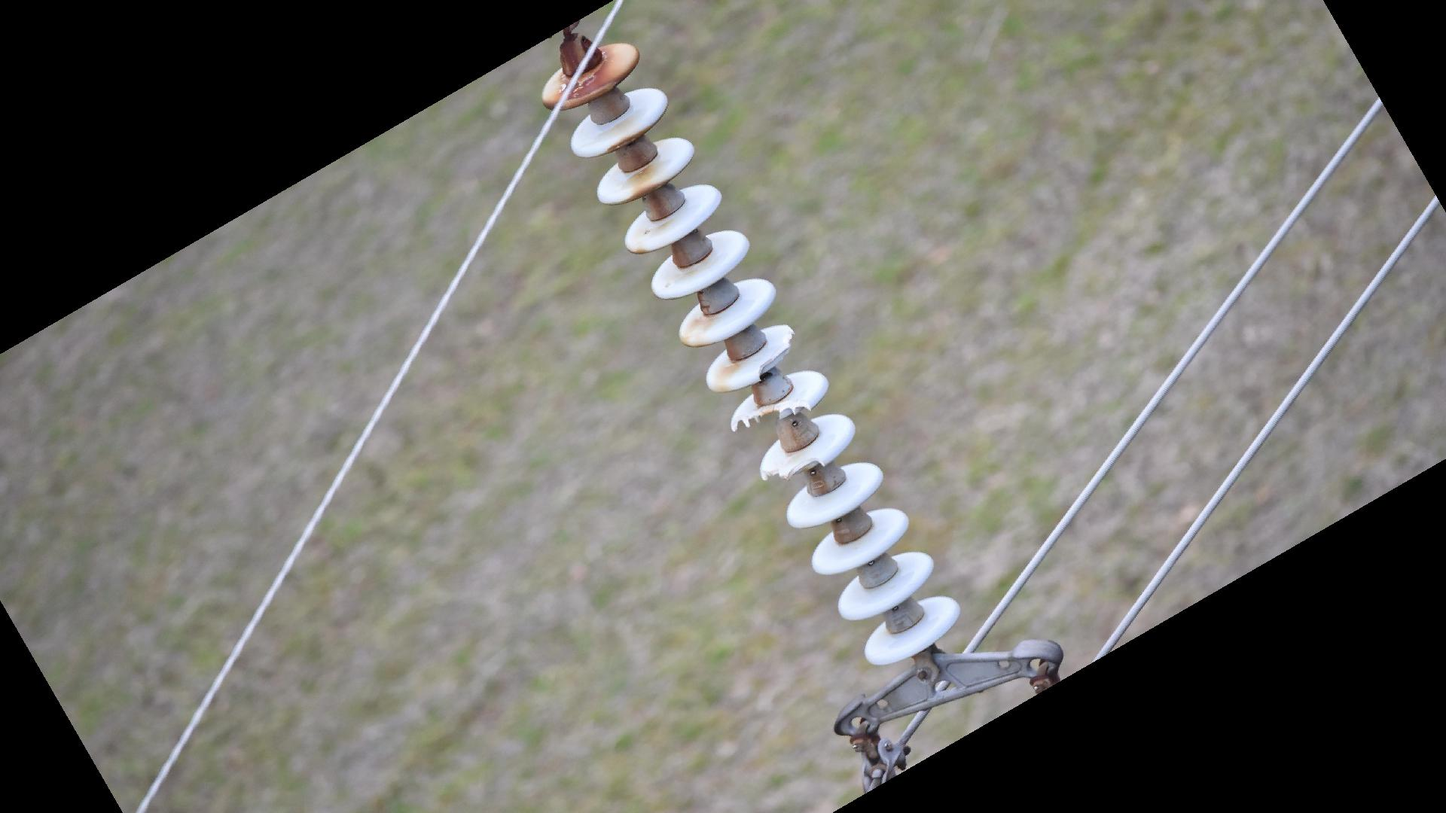insulator: (535, 37, 969, 671)
insulator_breakage: (728, 397, 816, 434), (752, 321, 797, 385), (756, 452, 828, 487)
